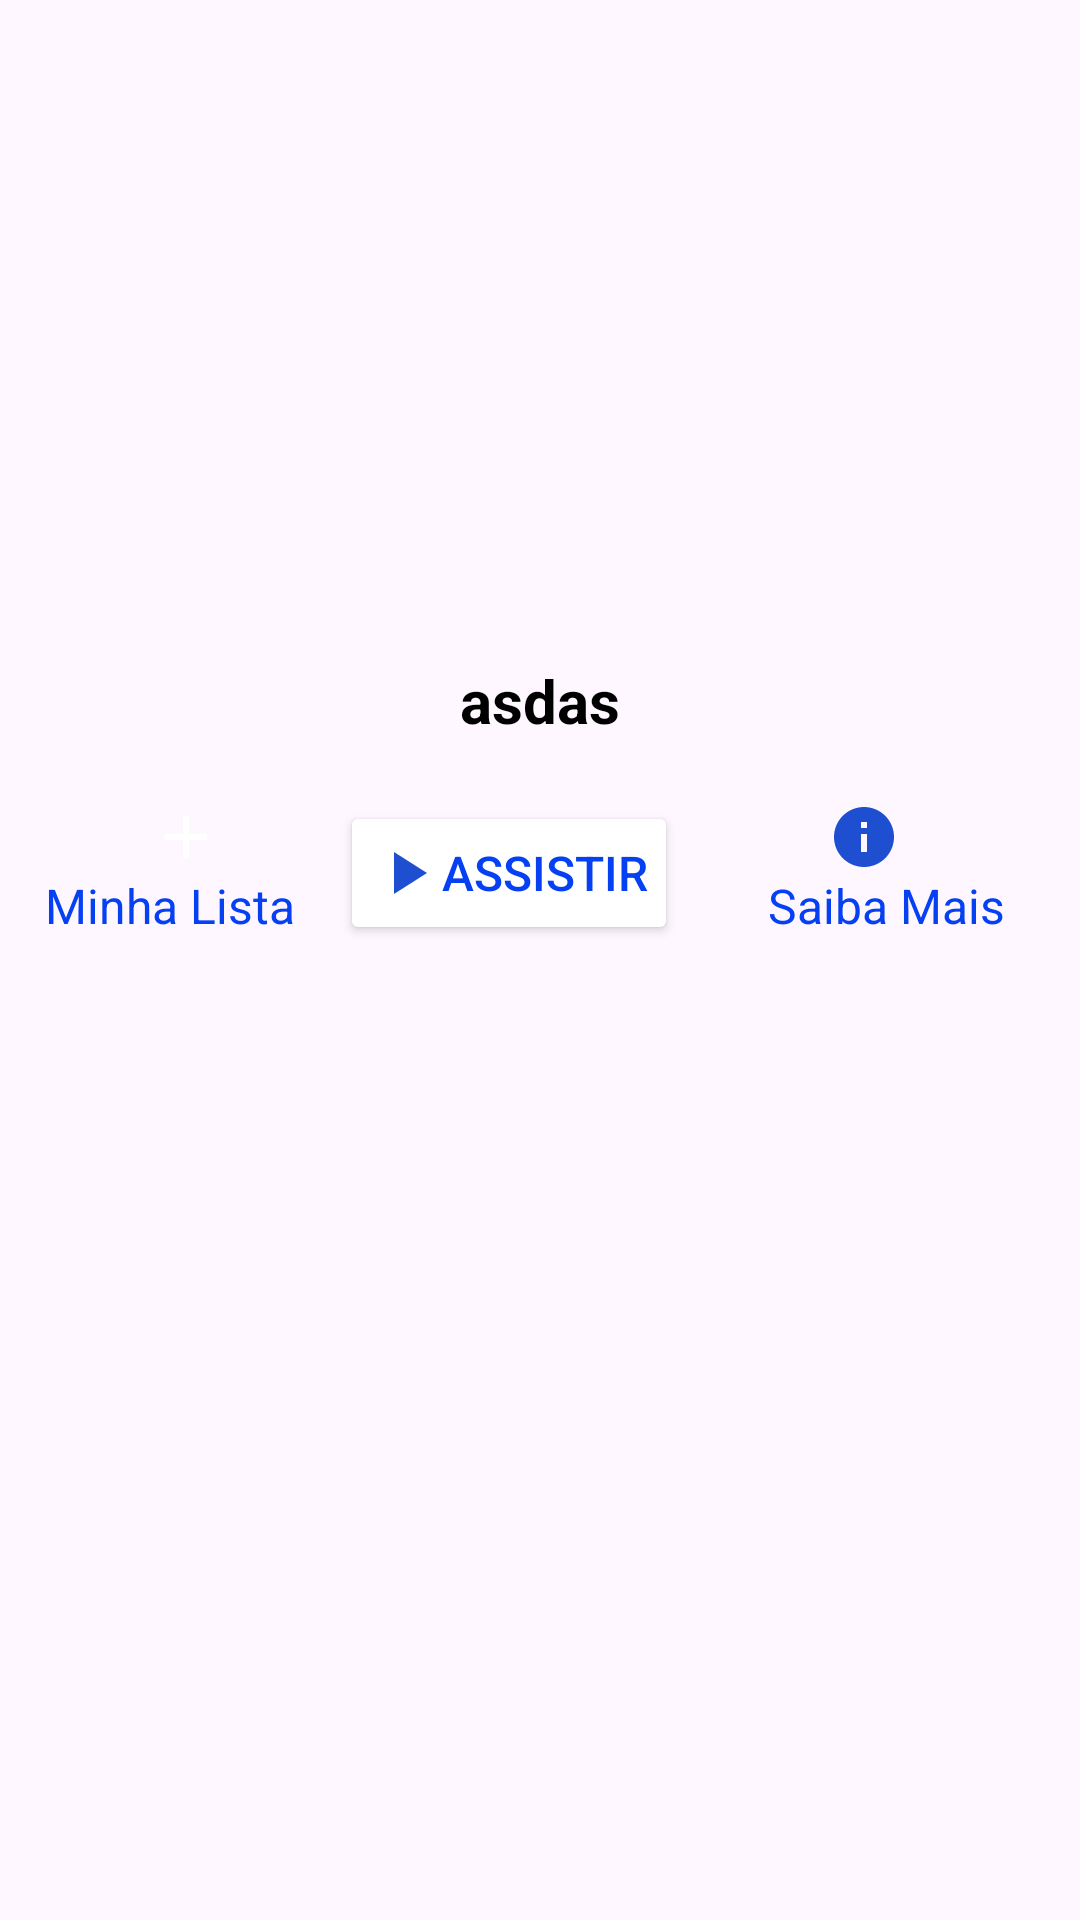

Screen size 1080w x 1920h. Icon name, then its center in pixels as point (x, y):
info filme: point (864, 837)
